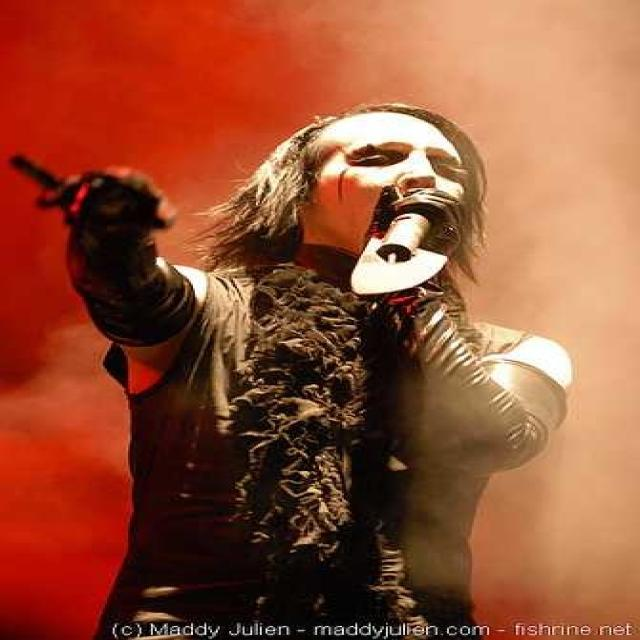microphone: (357, 174, 460, 290)
